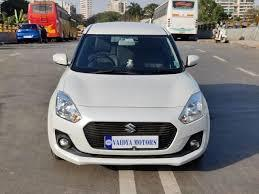non-ambulance: (48, 23, 209, 165), (28, 1, 77, 39), (153, 0, 197, 38), (16, 24, 41, 42), (213, 24, 227, 42)
